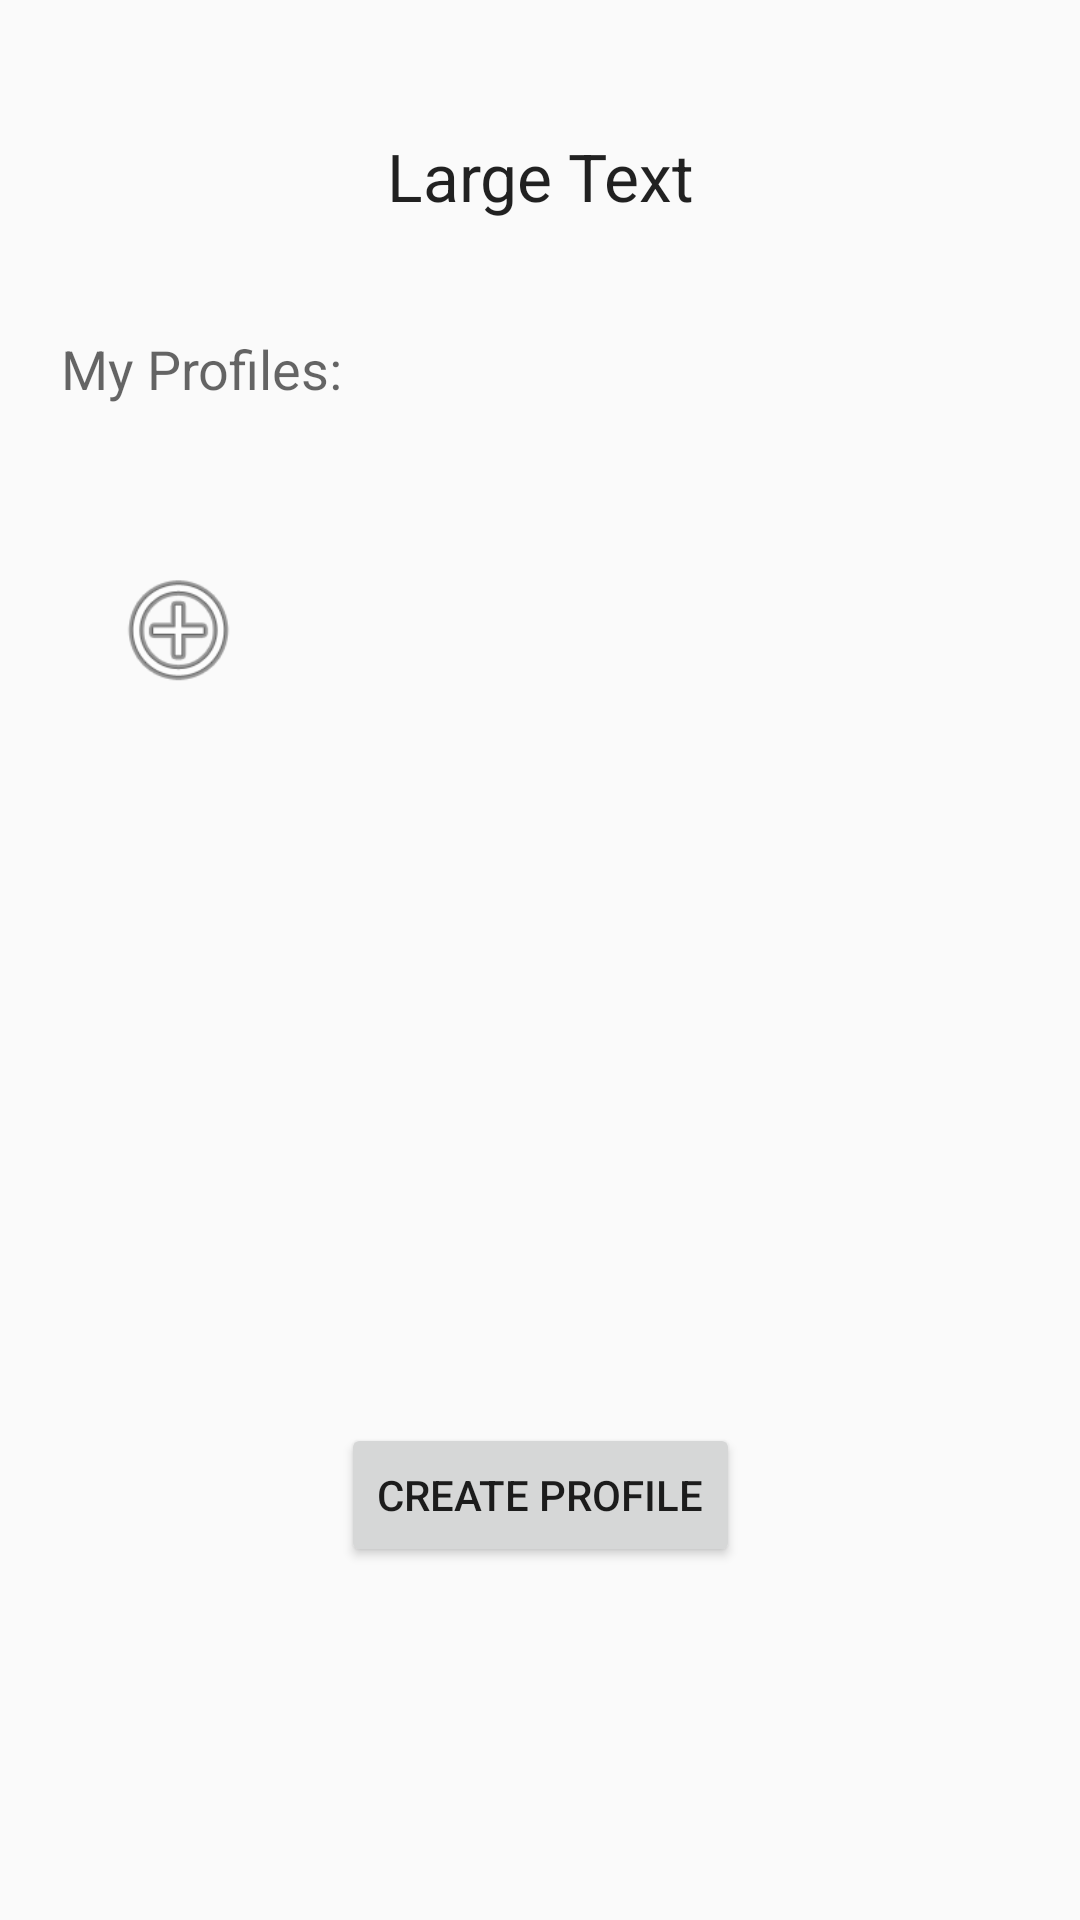

Screen size 1080px×1920px. Icon name, then its center in pixels as (x,y):
add: (178,630)
